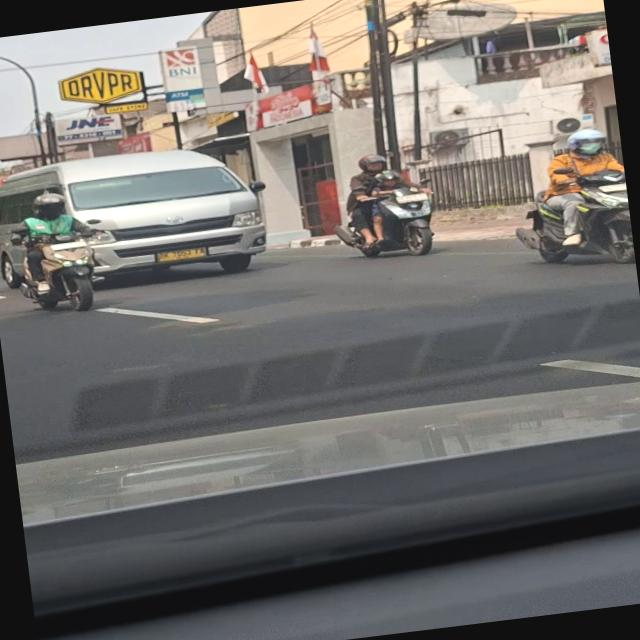WithHelmet: (529, 124, 632, 247), (5, 186, 109, 296), (338, 147, 437, 238), (349, 168, 413, 251)
